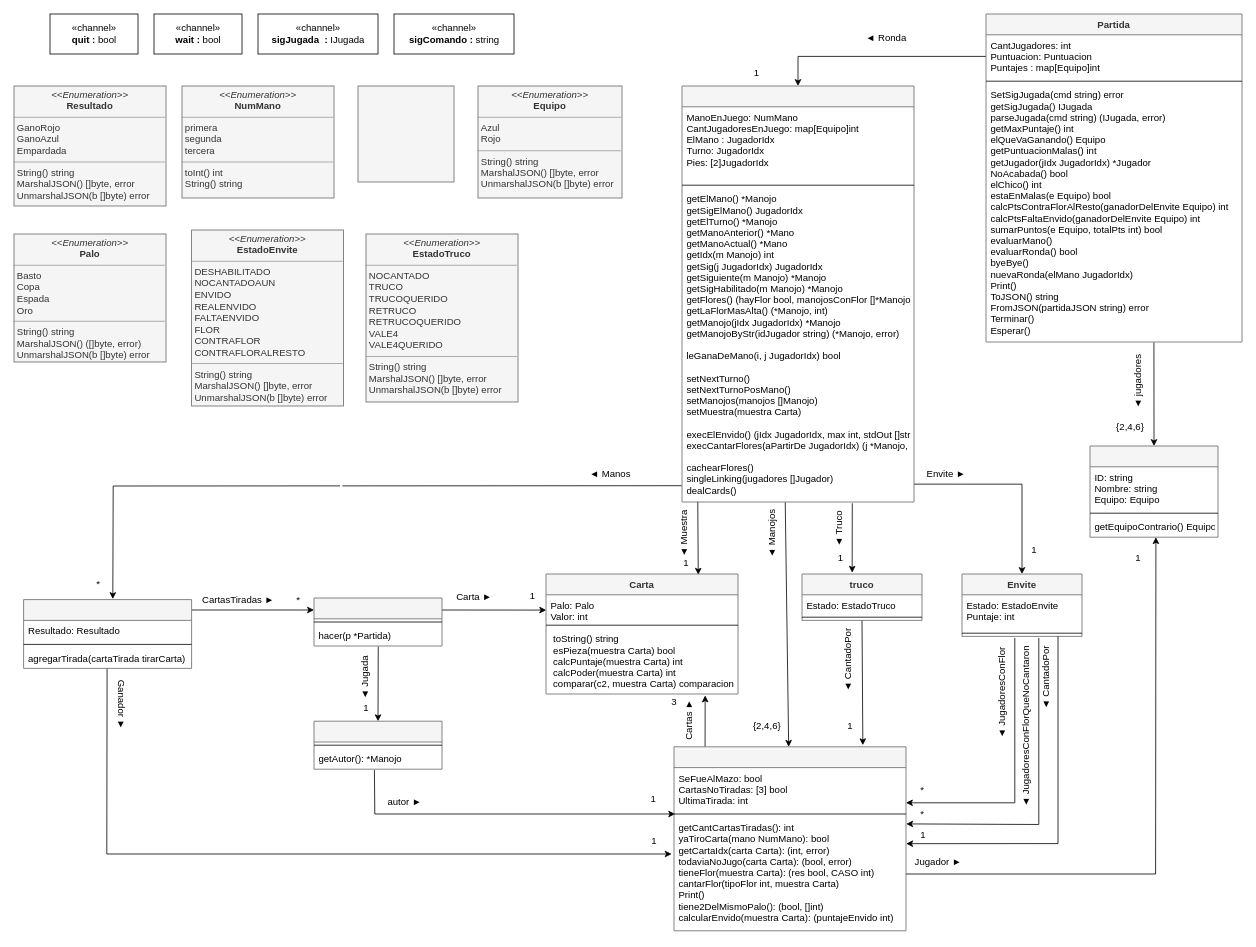
Image size: 1256x947. Some labels were removed from this diagram. The box of each missing label's shape, as (x1, y1, x2, y2) in pixels:
<<Enumeration>> Puntuacion a20 a30 a40 toInt() Int: (357, 85, 454, 182)
Jugada: (313, 720, 442, 769)
Jugador: (1089, 445, 1218, 537)
Mano: (23, 599, 192, 668)
Manojo: (673, 746, 906, 931)
Ronda: (681, 85, 914, 502)
tirarCarta: (313, 597, 442, 646)
